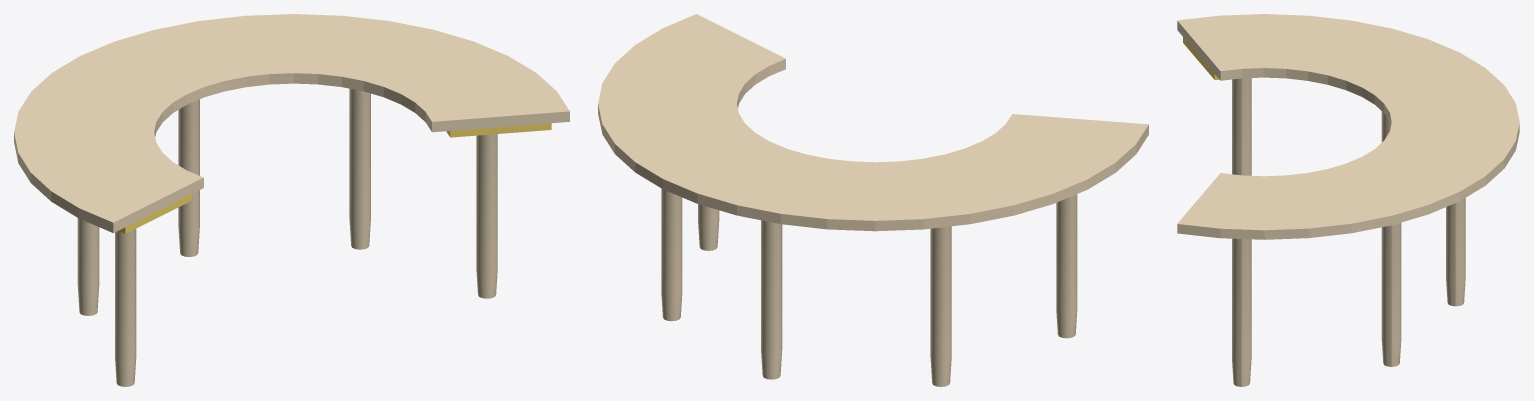
Rendered from nursery-and-primary-classroom-child-table-horseshoe-7b51e109__34984.glb.
3 views of the same model, side by side, from view 1: azimuth 30°, elevation 25°; view 2: azimuth 150°, elevation 25°; view 3: azimuth 270°, elevation 25° (orthographic). The views are drawn at different scales.
Parts seen in each view (by area): view 1: child-table-horseshoe; view 2: child-table-horseshoe; view 3: child-table-horseshoe.
Boxes of the visible parts, x1=… form: child-table-horseshoe: x1=14, y1=14, x2=569, y2=386; child-table-horseshoe: x1=598, y1=14, x2=1148, y2=386; child-table-horseshoe: x1=1177, y1=14, x2=1519, y2=386.
Size of the model in its own units: 1.36 by 0.53 by 0.9104.
